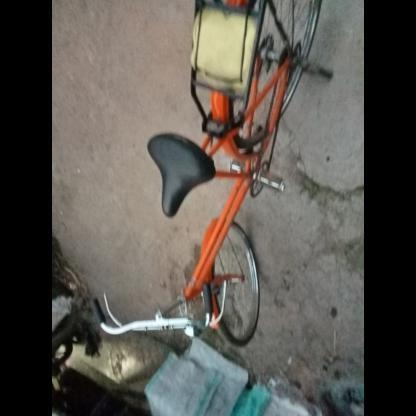Bicycle: (78, 2, 338, 355)
